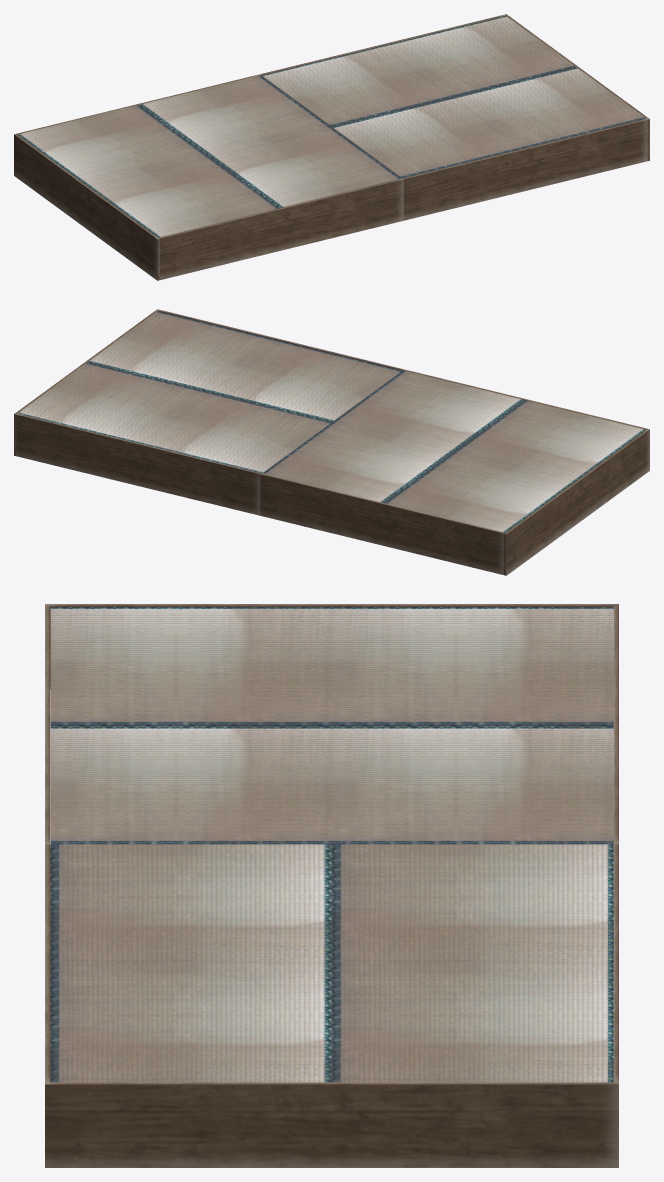
The model's file is tatami01c.fbx.
The picture shows the model from 3 angles, top to bottom: view 1: azimuth 30°, elevation 25°; view 2: azimuth 150°, elevation 25°; view 3: azimuth 270°, elevation 25°; orthographic projection. The views are drawn at different scales.
Parts seen in each view (by area): view 1: tatami01c; view 2: tatami01c; view 3: tatami01c.
Part boxes in pixels (x1=…): tatami01c: x1=14, y1=14, x2=649, y2=280; tatami01c: x1=14, y1=309, x2=649, y2=575; tatami01c: x1=45, y1=604, x2=618, y2=1167.
Bounding box in the file's own units: 417 × 33.63 × 211.
